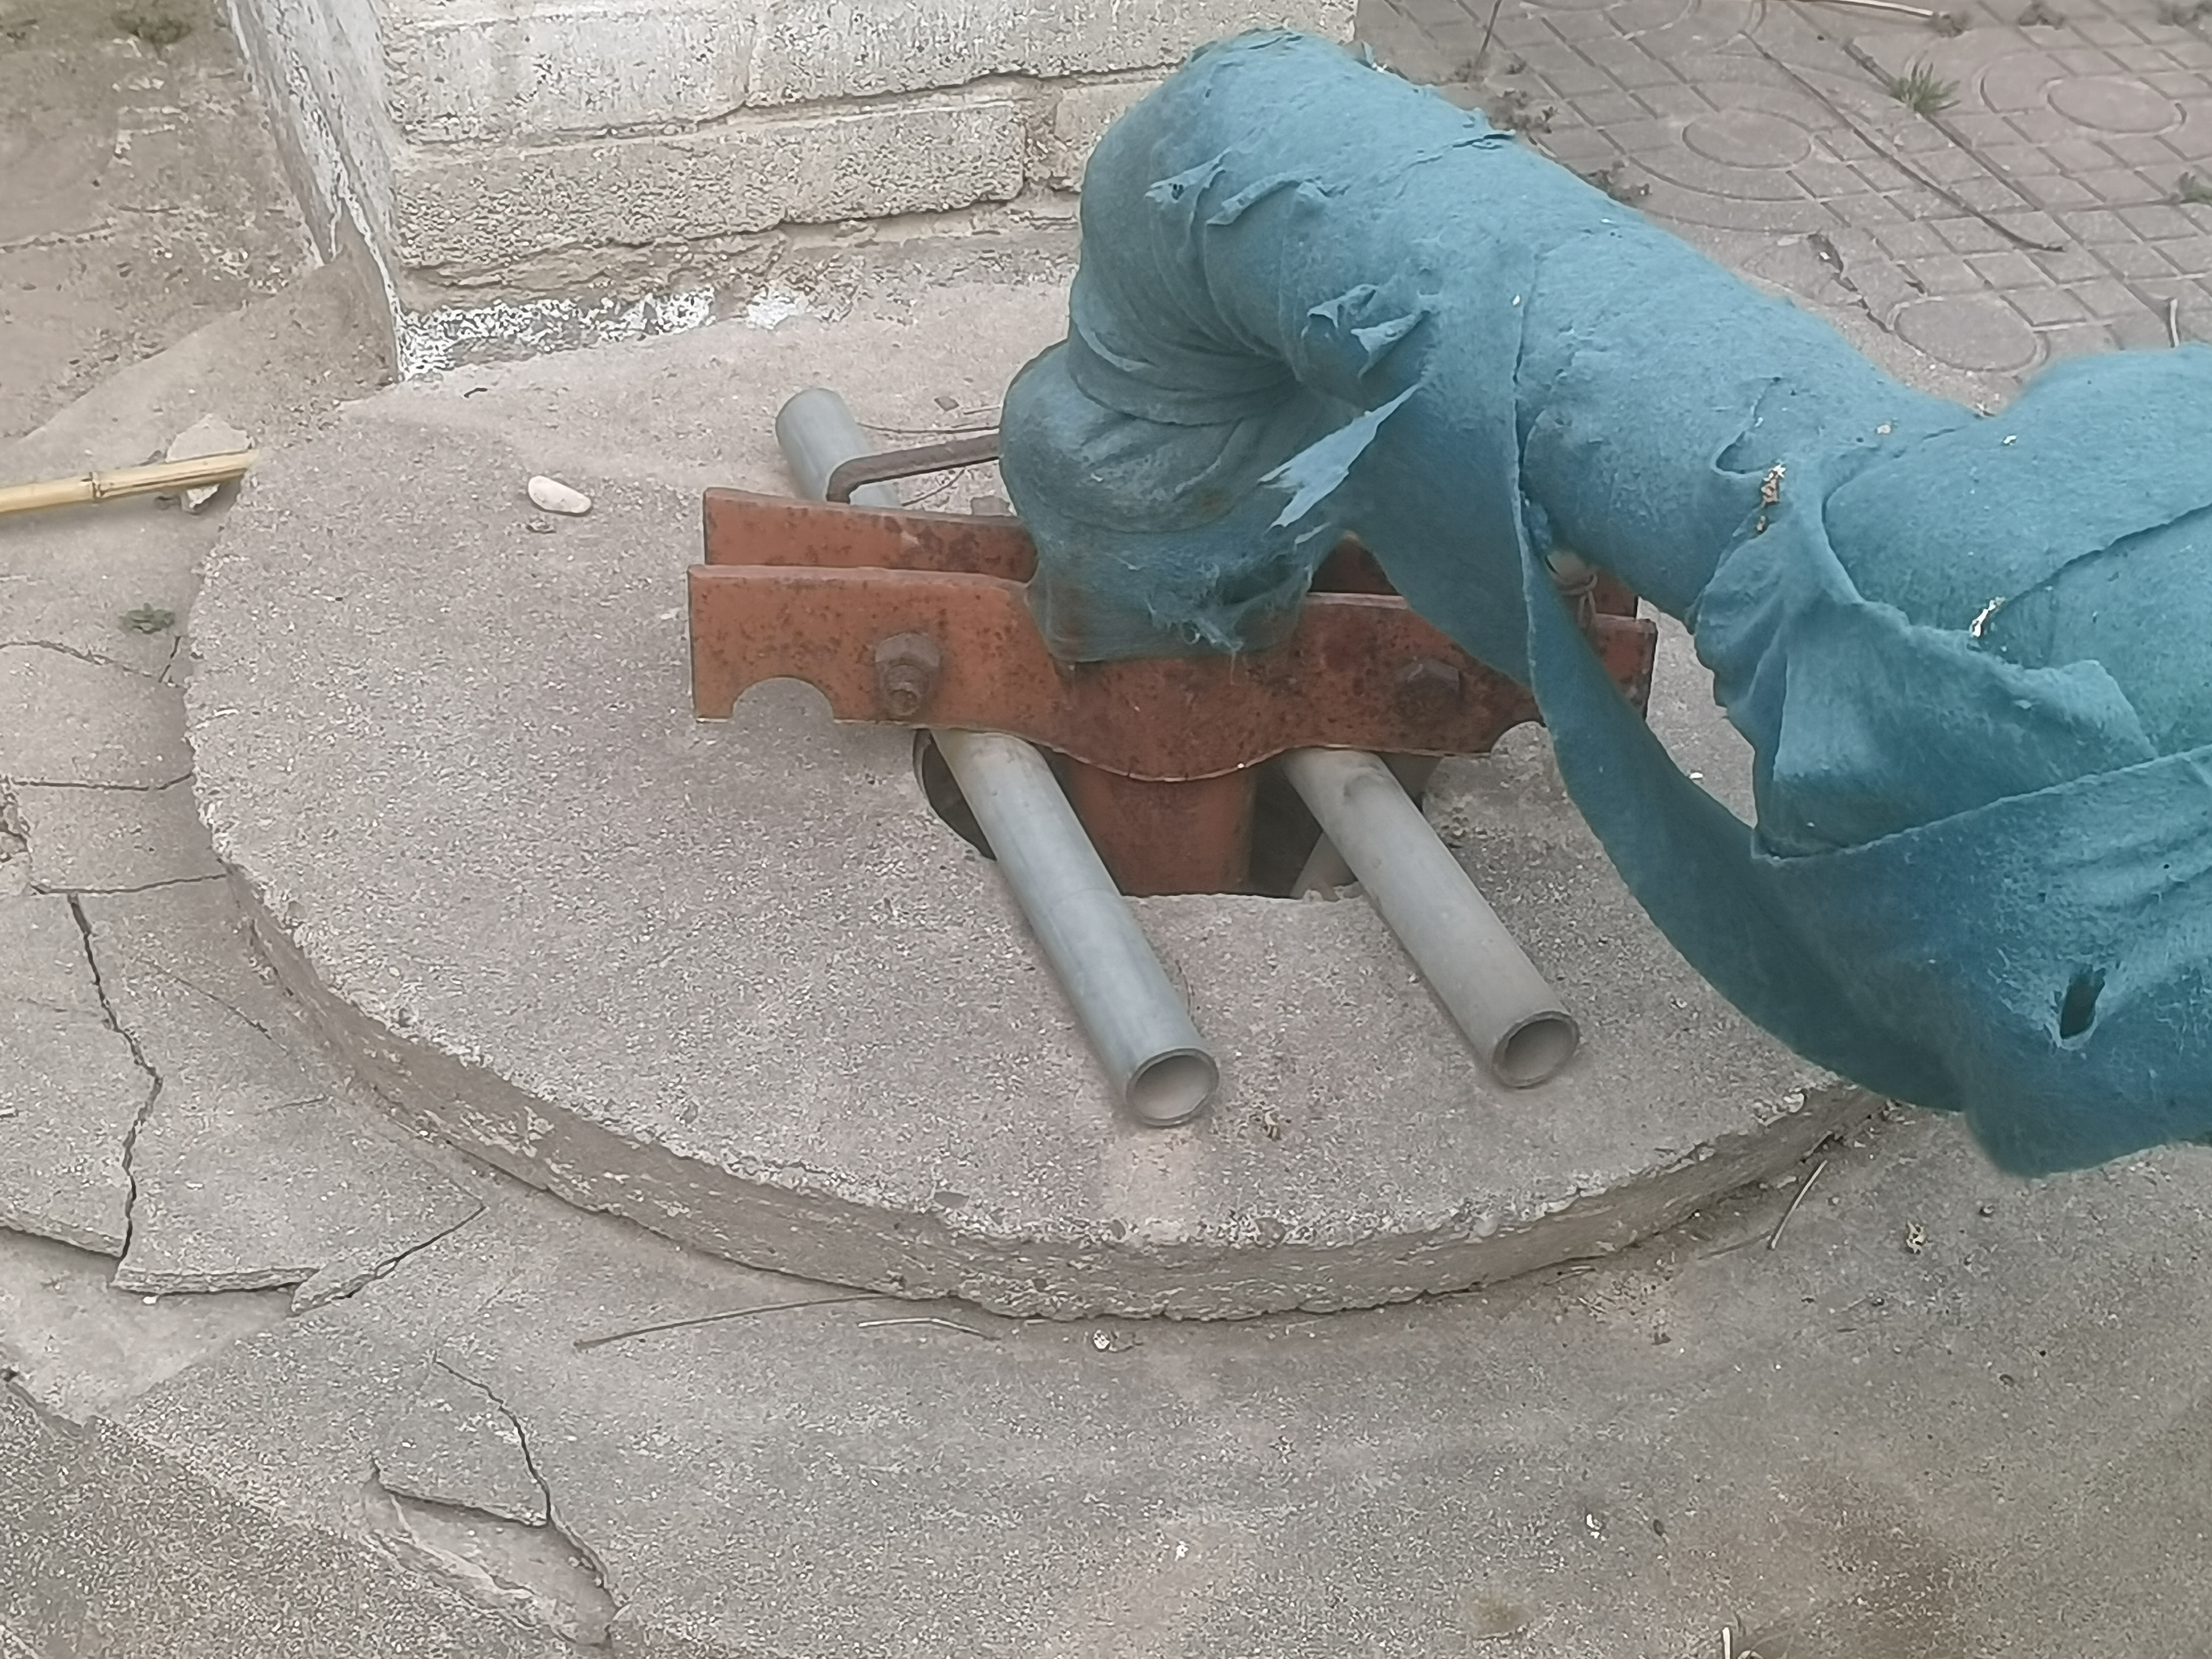vague: (864, 627, 946, 713), (1388, 655, 1465, 734)
